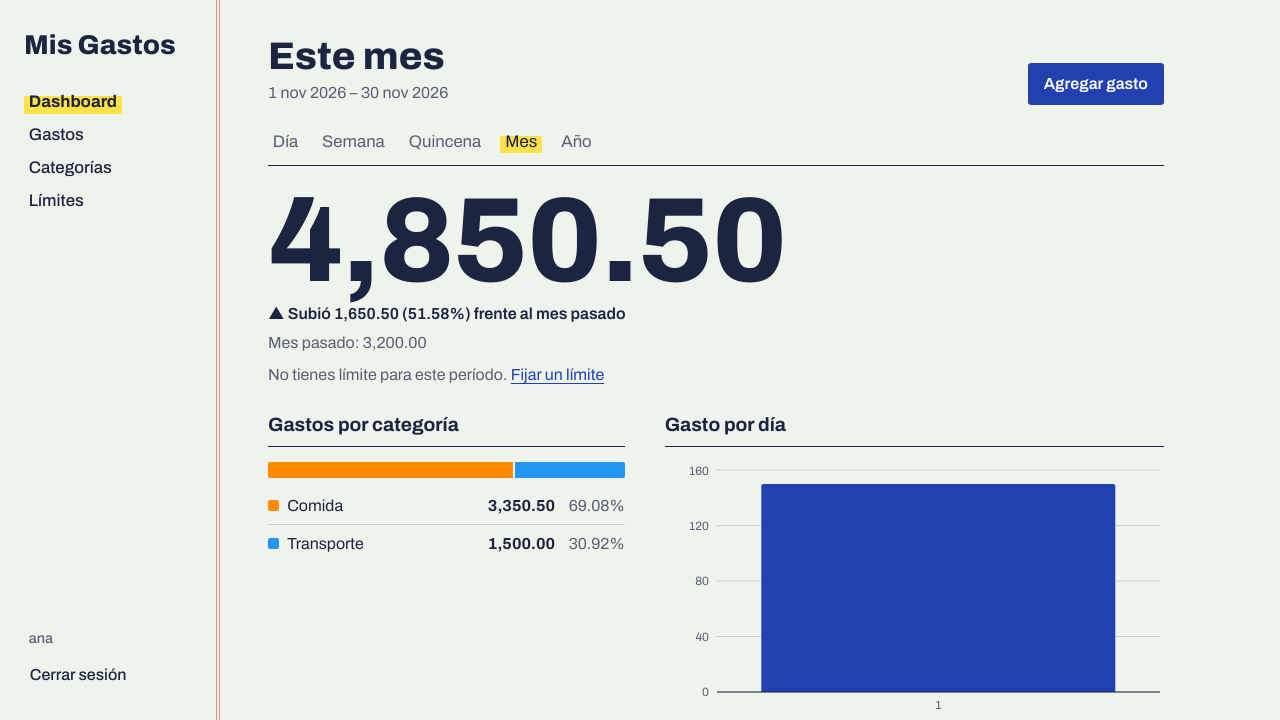
Test: DashboardPage: tabs and periods › the Semana tab requests WEEK and is titled "Esta semana"
Check: the text "4,850.50" is shown, box [268,176,786,306]
Click the tab "Semana".
click(353, 142)  # box [317,128,390,155]
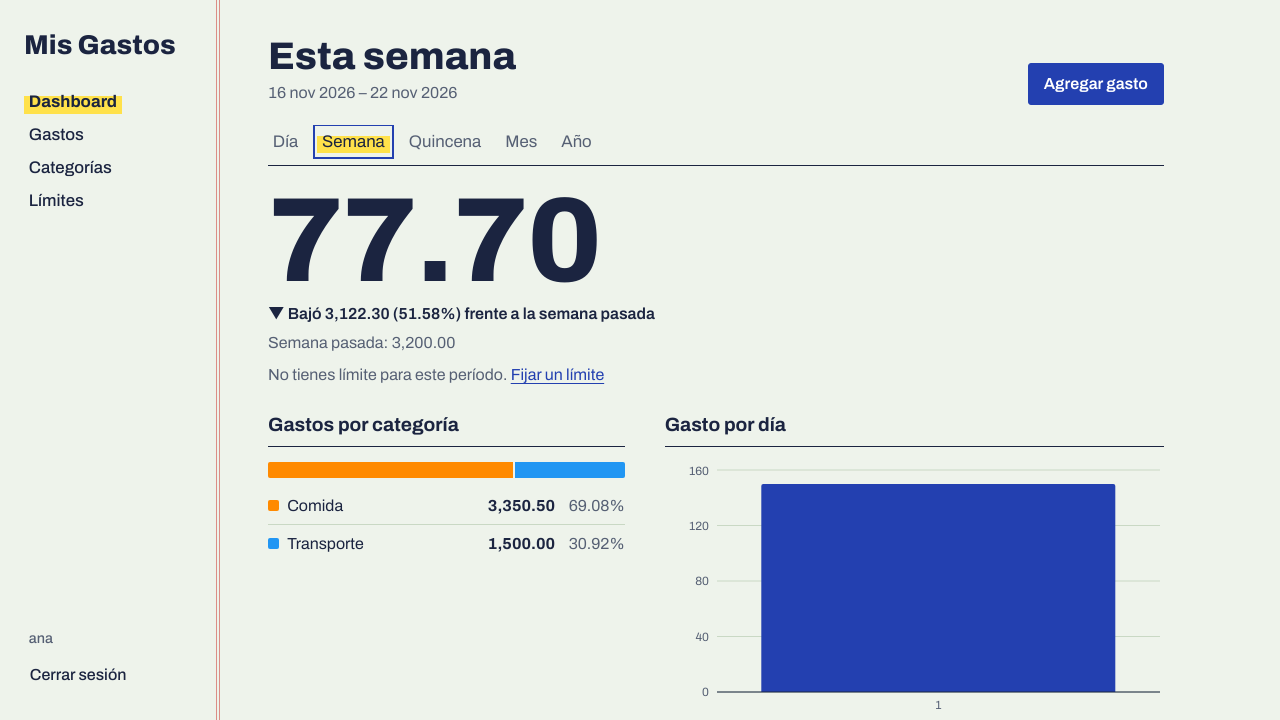
Check: the heading "Esta semana" is shown, box [268,36,516,76]
Check: the text with test id "total-spent" reads "77.70", box [268,176,601,306]
Check: the text "16 nov 2026 – 22 nov 2026" is shown, box [268,84,457,101]
